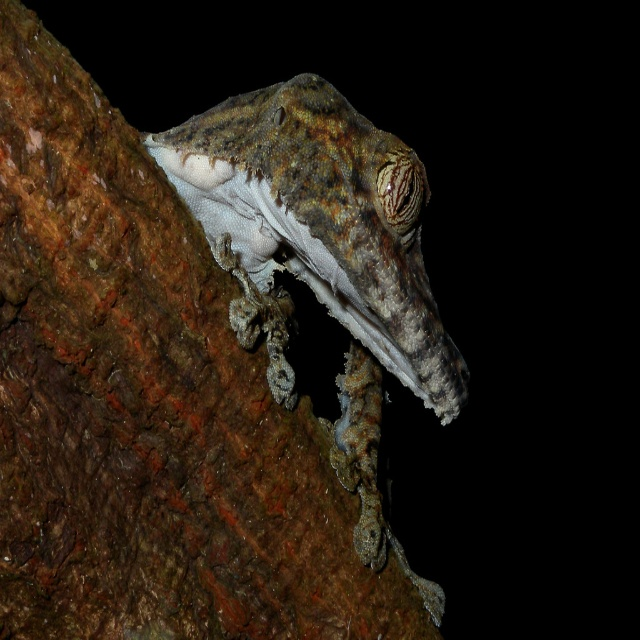Lizard: (143, 76, 440, 623)
